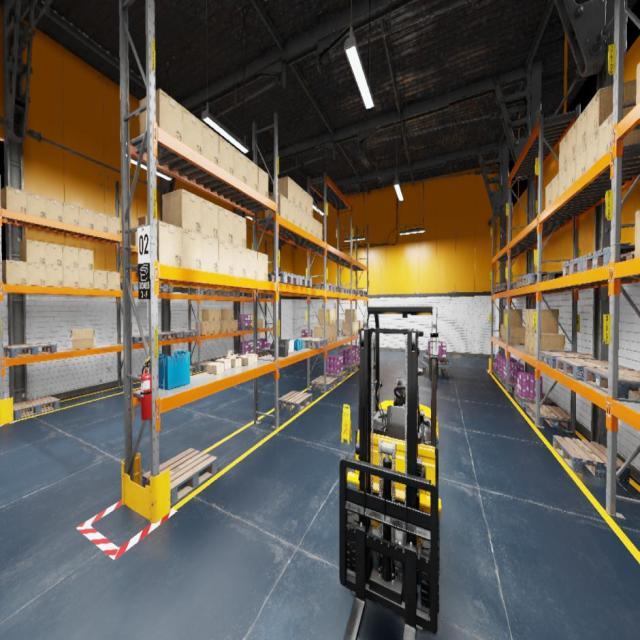box: (586, 79, 636, 141), (140, 88, 182, 142), (598, 106, 639, 160), (139, 221, 182, 267), (162, 189, 202, 234), (183, 107, 202, 154), (533, 332, 565, 357), (183, 229, 202, 270), (202, 122, 219, 165), (1, 187, 27, 214), (530, 309, 558, 333), (202, 198, 218, 240), (219, 135, 234, 175), (2, 260, 27, 284), (20, 240, 45, 264), (265, 194, 288, 220), (273, 177, 295, 204), (202, 235, 218, 272), (218, 206, 233, 244), (218, 240, 234, 275), (70, 328, 95, 350), (576, 106, 587, 153), (586, 129, 598, 171), (234, 147, 247, 184), (233, 212, 246, 248), (28, 192, 46, 218), (46, 197, 64, 222), (27, 263, 46, 286), (233, 245, 246, 278), (46, 264, 63, 287), (46, 242, 62, 266), (63, 202, 79, 226), (576, 142, 586, 180), (567, 120, 576, 162), (247, 158, 258, 191), (246, 249, 258, 279), (63, 246, 79, 268), (566, 154, 576, 189), (506, 326, 525, 344), (504, 308, 522, 326), (559, 132, 567, 172), (258, 166, 268, 198), (63, 267, 79, 287), (80, 207, 94, 229), (634, 209, 640, 258), (79, 268, 93, 289), (79, 248, 93, 269), (107, 214, 120, 236), (258, 252, 268, 280), (94, 211, 107, 232), (318, 309, 334, 326), (226, 350, 241, 368), (559, 163, 567, 196), (314, 326, 329, 343), (551, 172, 559, 203), (94, 270, 107, 289), (107, 272, 120, 290), (207, 362, 224, 374), (288, 199, 295, 224), (546, 180, 552, 209), (327, 308, 337, 325), (196, 322, 209, 335), (636, 62, 640, 104), (345, 308, 357, 322), (202, 308, 214, 322), (215, 359, 231, 369), (240, 354, 253, 366), (295, 182, 301, 208), (343, 322, 354, 336), (307, 194, 313, 218), (301, 188, 307, 212), (221, 308, 233, 320), (301, 210, 307, 232), (307, 213, 313, 235), (295, 205, 301, 227), (244, 353, 257, 363), (312, 217, 318, 238), (130, 232, 138, 246), (529, 332, 533, 356), (526, 309, 530, 332), (525, 331, 529, 354), (498, 323, 504, 338), (139, 216, 148, 226), (220, 321, 228, 332), (214, 308, 220, 322), (215, 321, 221, 334), (318, 222, 322, 240), (232, 320, 238, 332), (330, 325, 334, 342), (227, 321, 233, 332), (209, 322, 214, 334), (257, 319, 263, 328), (334, 325, 337, 341), (358, 321, 363, 329), (503, 325, 505, 342), (502, 325, 504, 340), (357, 321, 359, 334), (354, 322, 356, 334)
forklift: (347, 306, 441, 613)
pallets: (142, 448, 216, 506), (553, 435, 630, 483), (555, 356, 634, 381), (584, 366, 640, 398), (583, 244, 634, 271), (525, 403, 570, 430), (13, 396, 60, 420), (540, 352, 598, 368), (3, 342, 58, 358), (278, 390, 312, 412), (514, 390, 554, 408), (523, 272, 563, 286), (516, 276, 558, 288), (268, 272, 299, 286), (562, 256, 583, 276), (312, 376, 338, 391), (299, 337, 327, 349), (132, 334, 159, 344), (326, 371, 348, 382), (424, 356, 448, 365), (502, 378, 518, 391), (310, 284, 336, 292), (172, 330, 198, 338), (193, 361, 215, 370), (158, 332, 179, 340), (297, 276, 312, 286), (343, 363, 359, 372), (190, 289, 213, 295), (121, 284, 138, 291), (204, 291, 227, 296), (497, 284, 513, 291), (159, 285, 173, 293), (247, 292, 264, 298), (492, 286, 505, 293), (349, 289, 364, 295), (227, 291, 240, 297), (253, 350, 265, 356), (258, 294, 273, 298), (238, 326, 253, 330), (342, 287, 350, 294), (190, 366, 197, 374), (497, 372, 502, 383), (222, 355, 240, 358), (493, 368, 498, 378), (358, 291, 368, 296), (336, 285, 342, 293), (258, 350, 270, 354), (512, 281, 516, 289), (354, 360, 360, 364)
